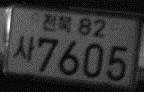0: (82, 42, 103, 78)
2: (93, 18, 106, 38)
5: (104, 43, 128, 81)
6: (59, 40, 79, 76)
7: (35, 36, 59, 72)
8: (78, 16, 92, 37)
사: (11, 34, 36, 62)
전북_H: (42, 12, 72, 34)
